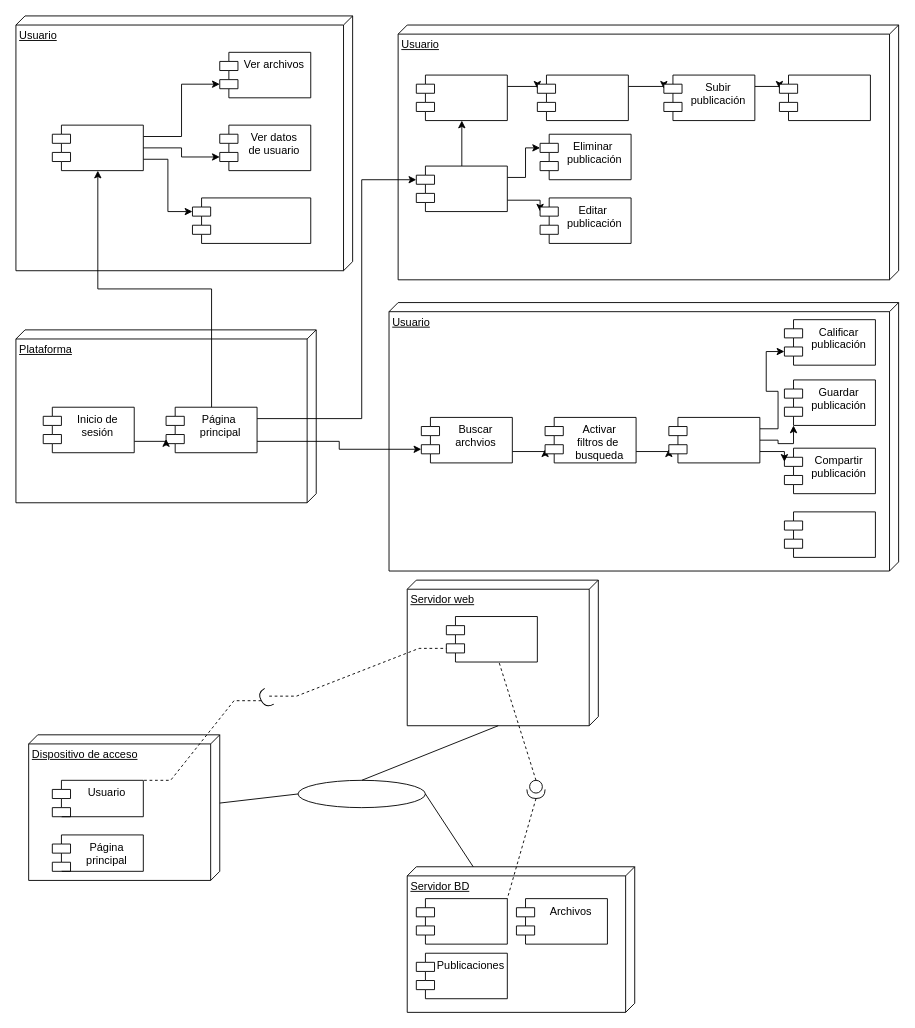
Some shapes in this 915 by 1028 pixel diagram are drawn without their labels. The centre of each missing label's shape, as x and y in pixels:
Agregar datos de publicación: (x=582, y=97)
Comentar publicación: (x=829, y=534)
Conexion via Internet: (x=361, y=793)
Crear publicación: (x=461, y=188)
Interfaz web: (x=491, y=639)
Perfil: (x=97, y=147)
Publicación realizada: (x=824, y=97)
Registros: (x=461, y=921)
Seleccionar archivo: (x=461, y=97)
Seleccionar publicación: (x=714, y=440)
Ver publicaciones: (x=251, y=220)
